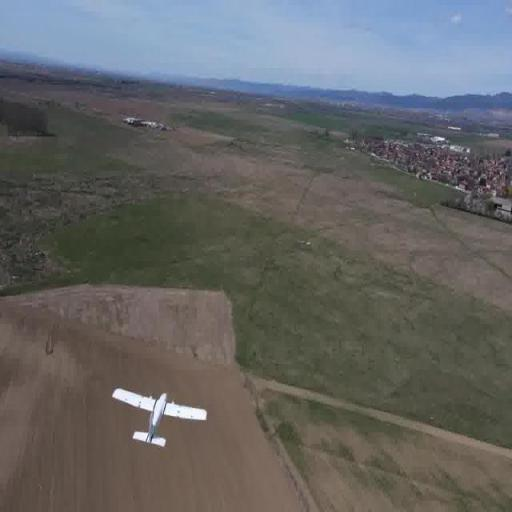uav: (110, 378, 210, 456)
